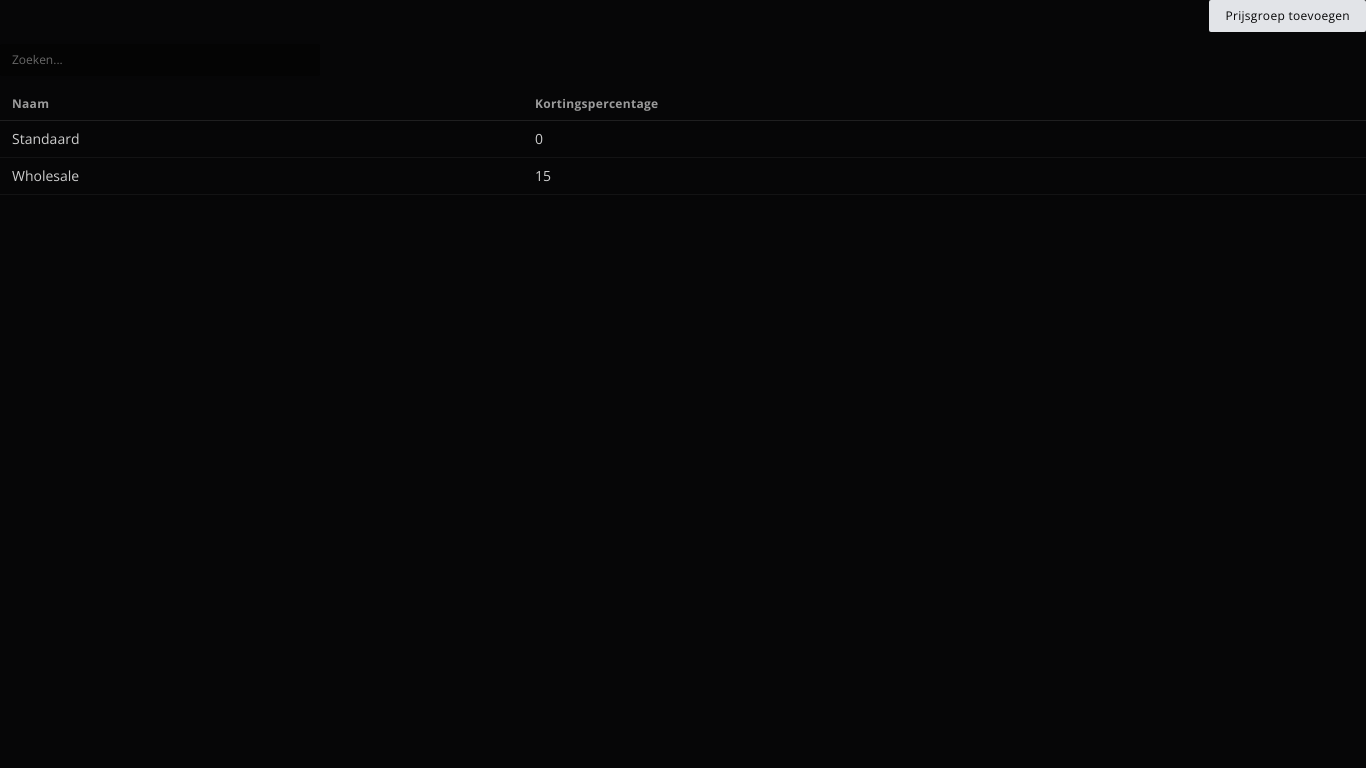
it: PrijsgroepenSection › blocks deleting a prijsgroep that is still assigned to a klant
This screenshot has width=1366, height=768.
Click the row with test id "data-table-row-pg-1" at (683, 139), box [0,120,1365,158]
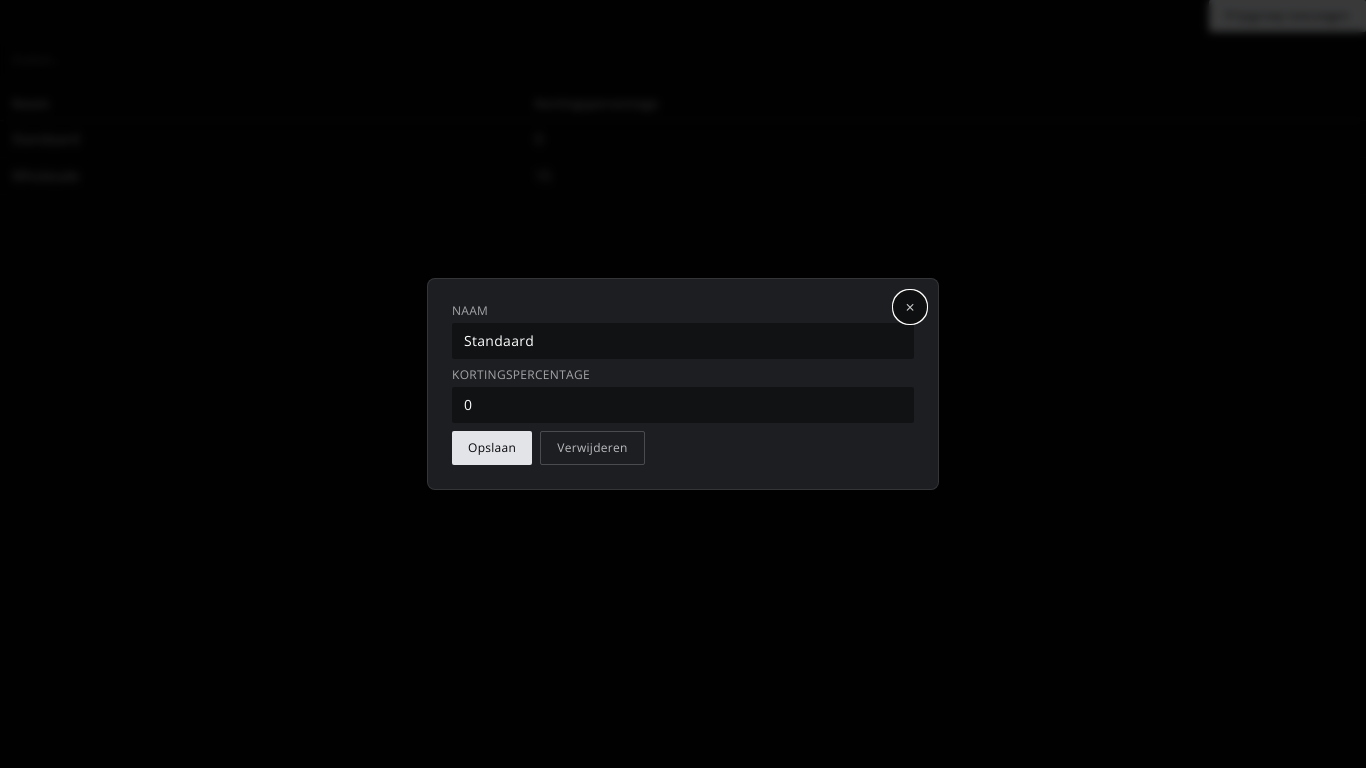
Click the button with test id "prijsgroep-modal-verwijderen" at (592, 448), box [540,431,645,465]
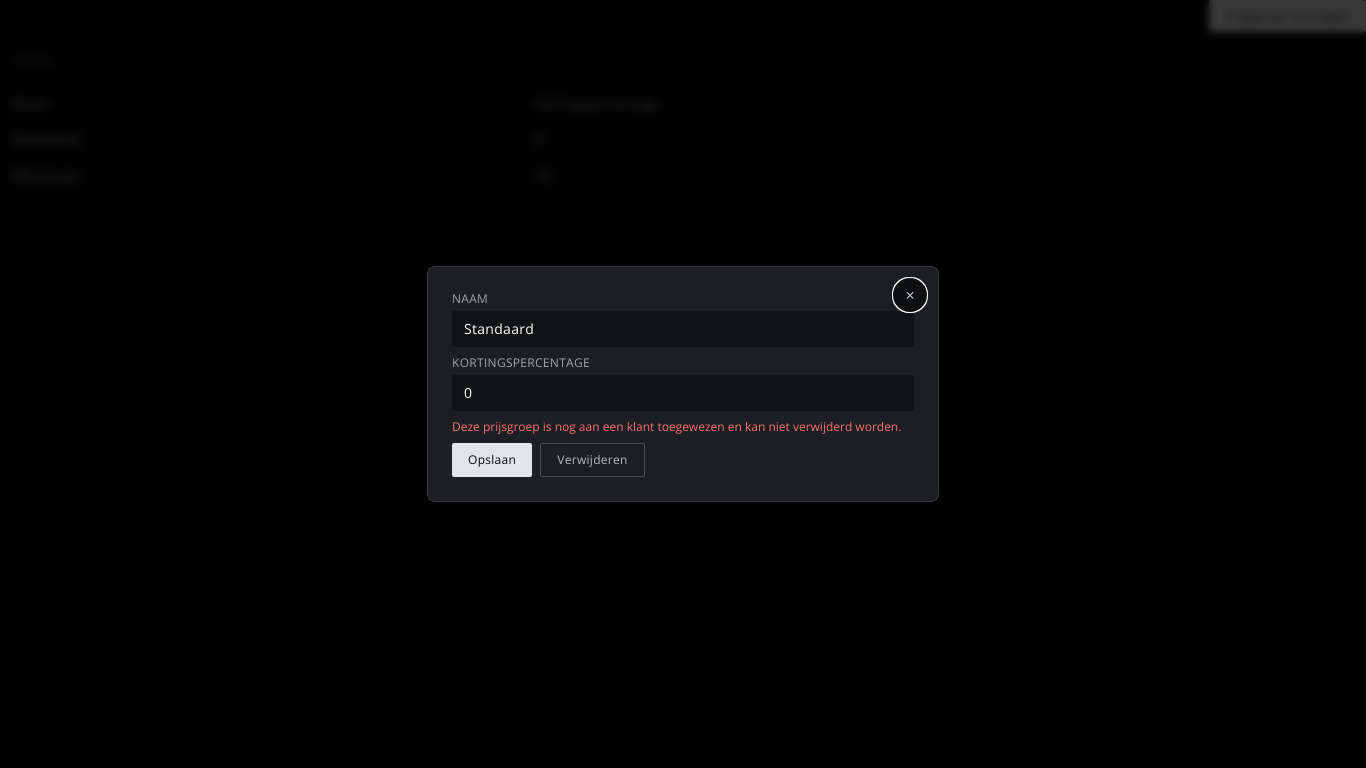
Expected: the text with test id "prijsgroep-modal-error" reads "Deze prijsgroep is nog aan een klant toegewezen en kan niet verwijderd worden.", [452,418,901,435]
